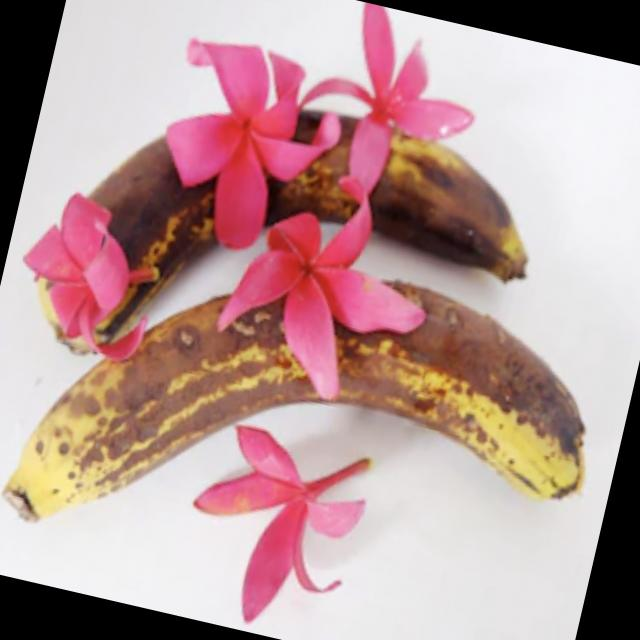rotten-banana: (0, 210, 615, 640), (18, 42, 576, 434)
